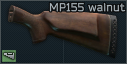MP-155 walnut stock: (0, 0, 127, 64)
